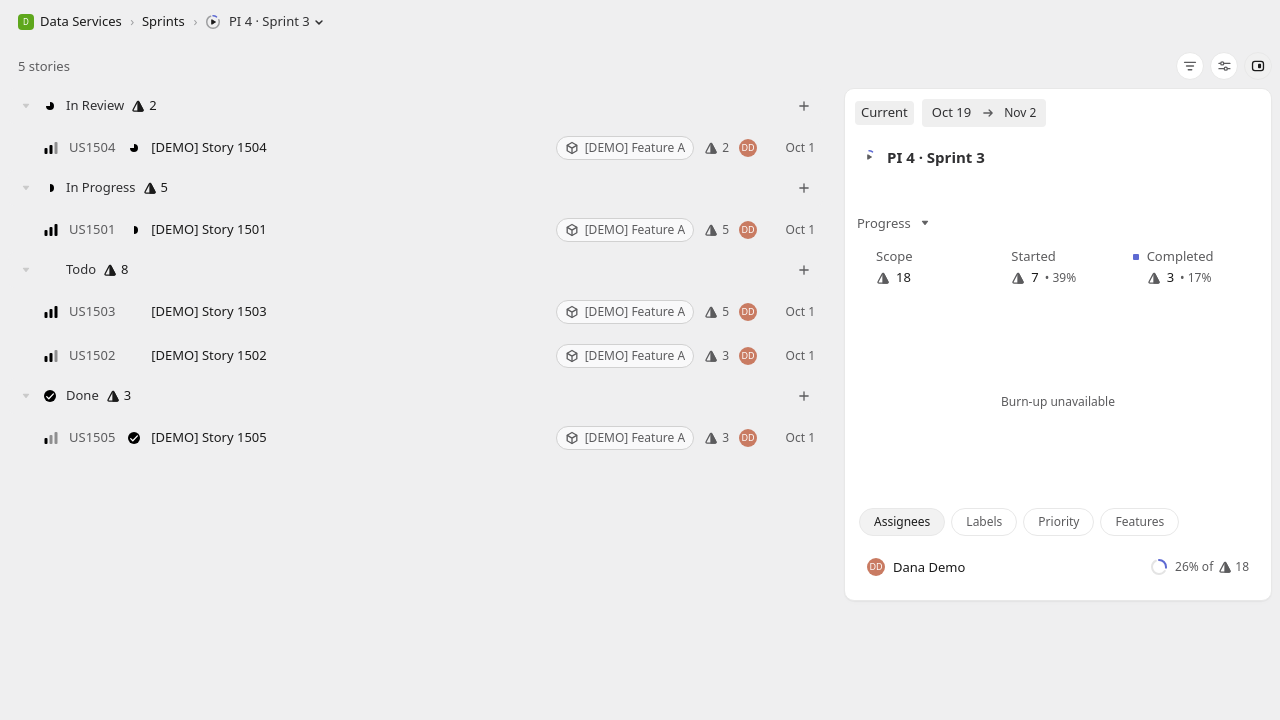
Test case: the toolbar's panel toggle closes and reopens the panel
The width and height of the screenshot is (1280, 720).
Expected: the element named "Sprint details" is shown, [832,88,1279,609]
Click the button named "Close sprint details" at (1258, 66), box [1244,52,1272,80]
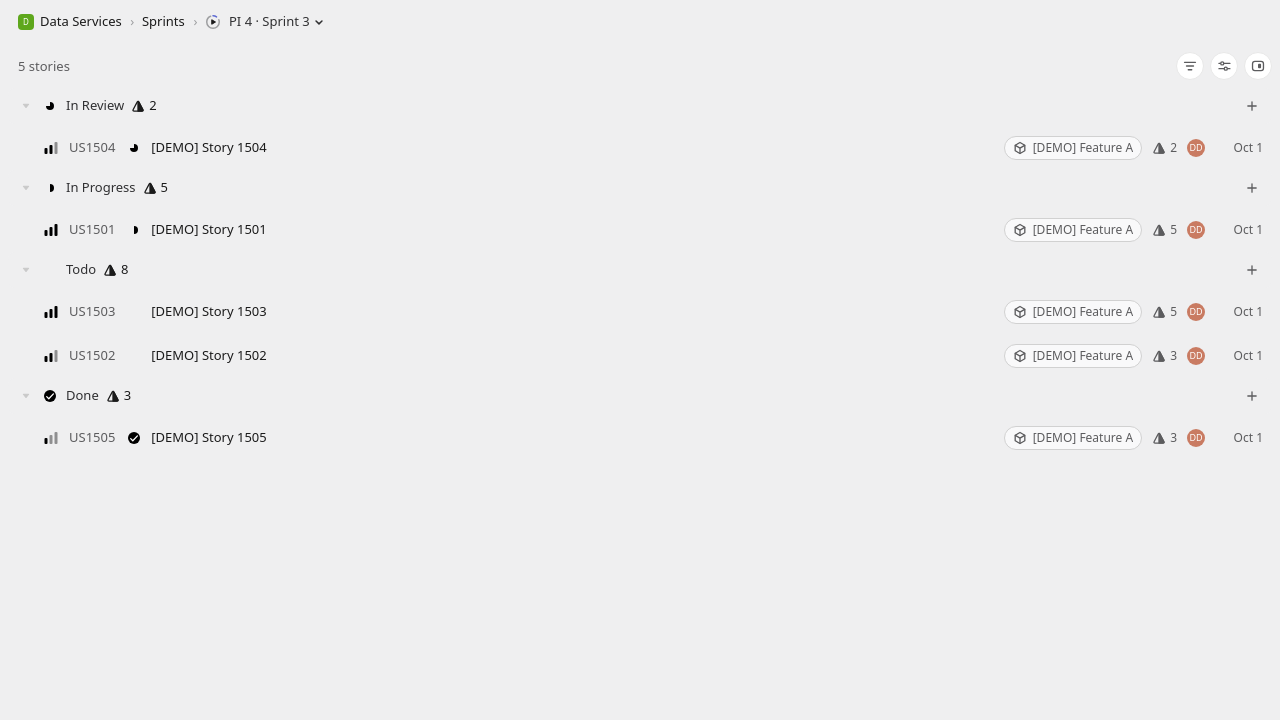
Click the button named "Open sprint details" at (1258, 66), box [1244,52,1272,80]
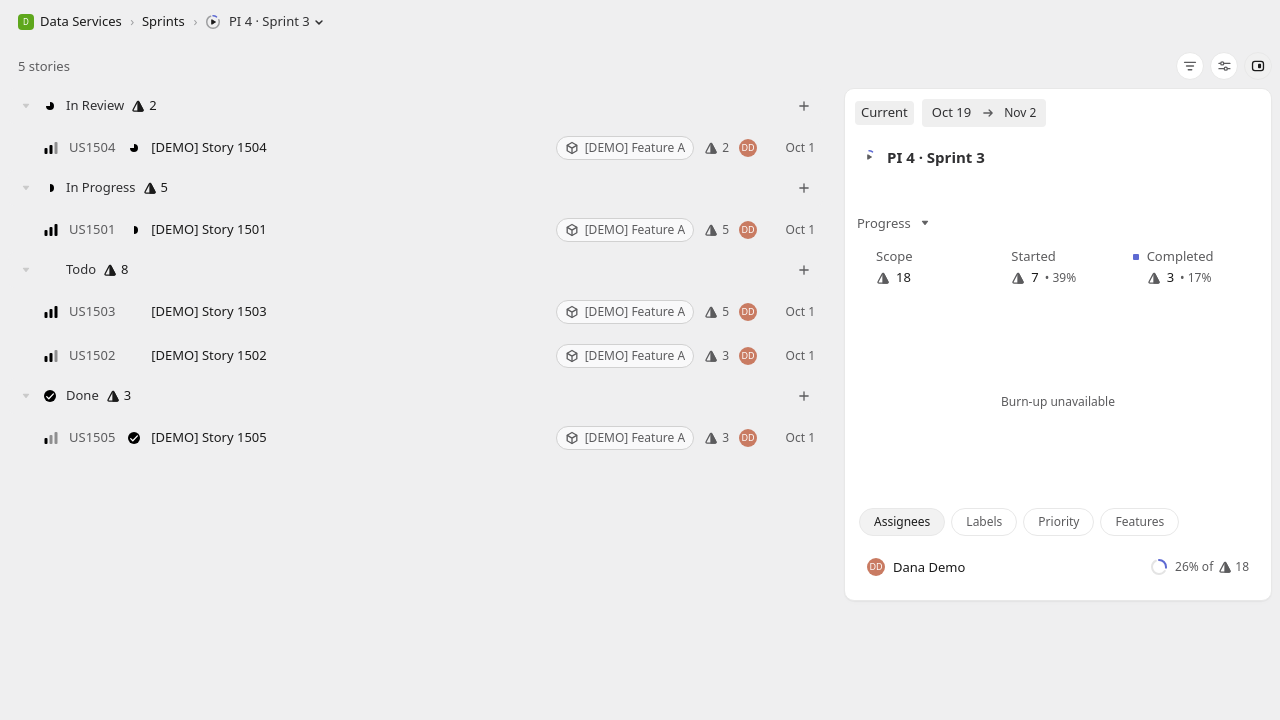
Expected: the element named "Sprint details" is shown, [832,88,1279,609]
